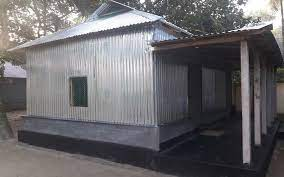Tin-shade House: (15, 5, 274, 163)
